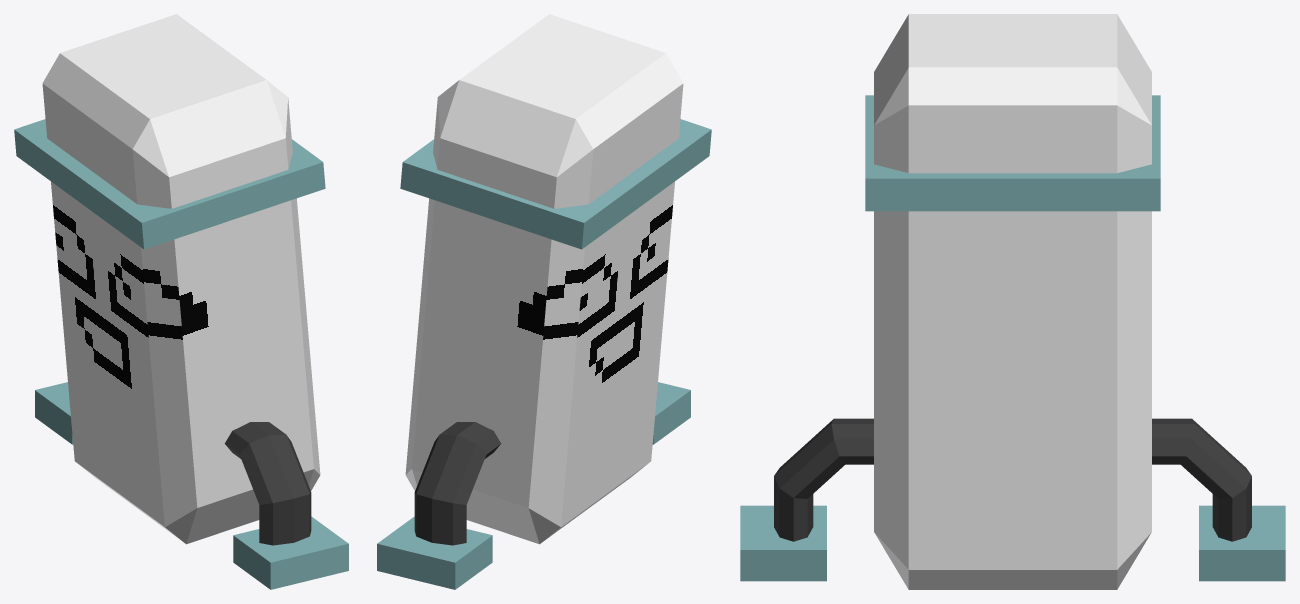
The model's file is ecaker.gltf.
3 renders of one model, left to right at view 1: azimuth 30°, elevation 25°; view 2: azimuth 150°, elevation 25°; view 3: azimuth 270°, elevation 25°, orthographic. The views are drawn at different scales.
Parts seen in each view (by area): view 1: beveled_cuboid, mesh (×3), torus; view 2: beveled_cuboid, mesh (×3), torus; view 3: beveled_cuboid, mesh (×3), torus (×2).
Boxes of the visible parts, bbox=[...] form: beveled_cuboid: bbox=[42, 14, 320, 544]; mesh (×3): bbox=[14, 119, 348, 589]; torus: bbox=[224, 422, 311, 545]; beveled_cuboid: bbox=[405, 14, 683, 544]; mesh (×3): bbox=[377, 119, 711, 589]; torus: bbox=[414, 422, 501, 545]; beveled_cuboid: bbox=[874, 14, 1151, 589]; mesh (×3): bbox=[740, 95, 1285, 581]; torus (×2): bbox=[774, 418, 1251, 541].
Bounding box in the file's own units: 0.237 × 0.5104 × 0.4906.
4 materials, 4 textured.
